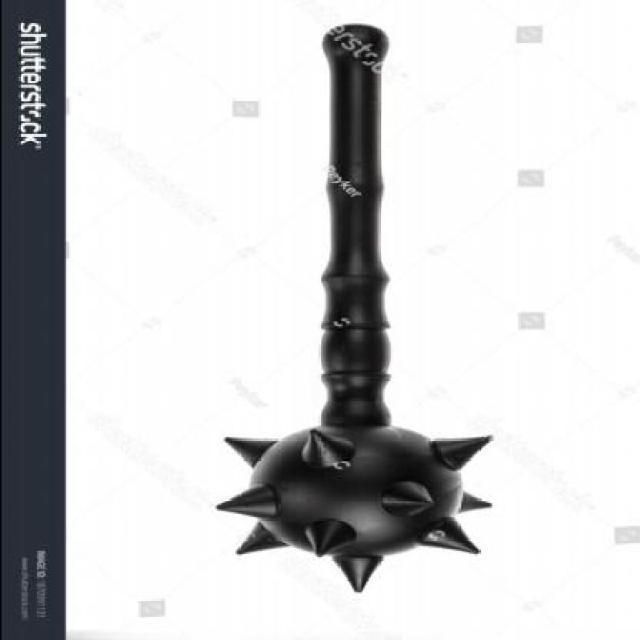weapon: (216, 20, 493, 591)
